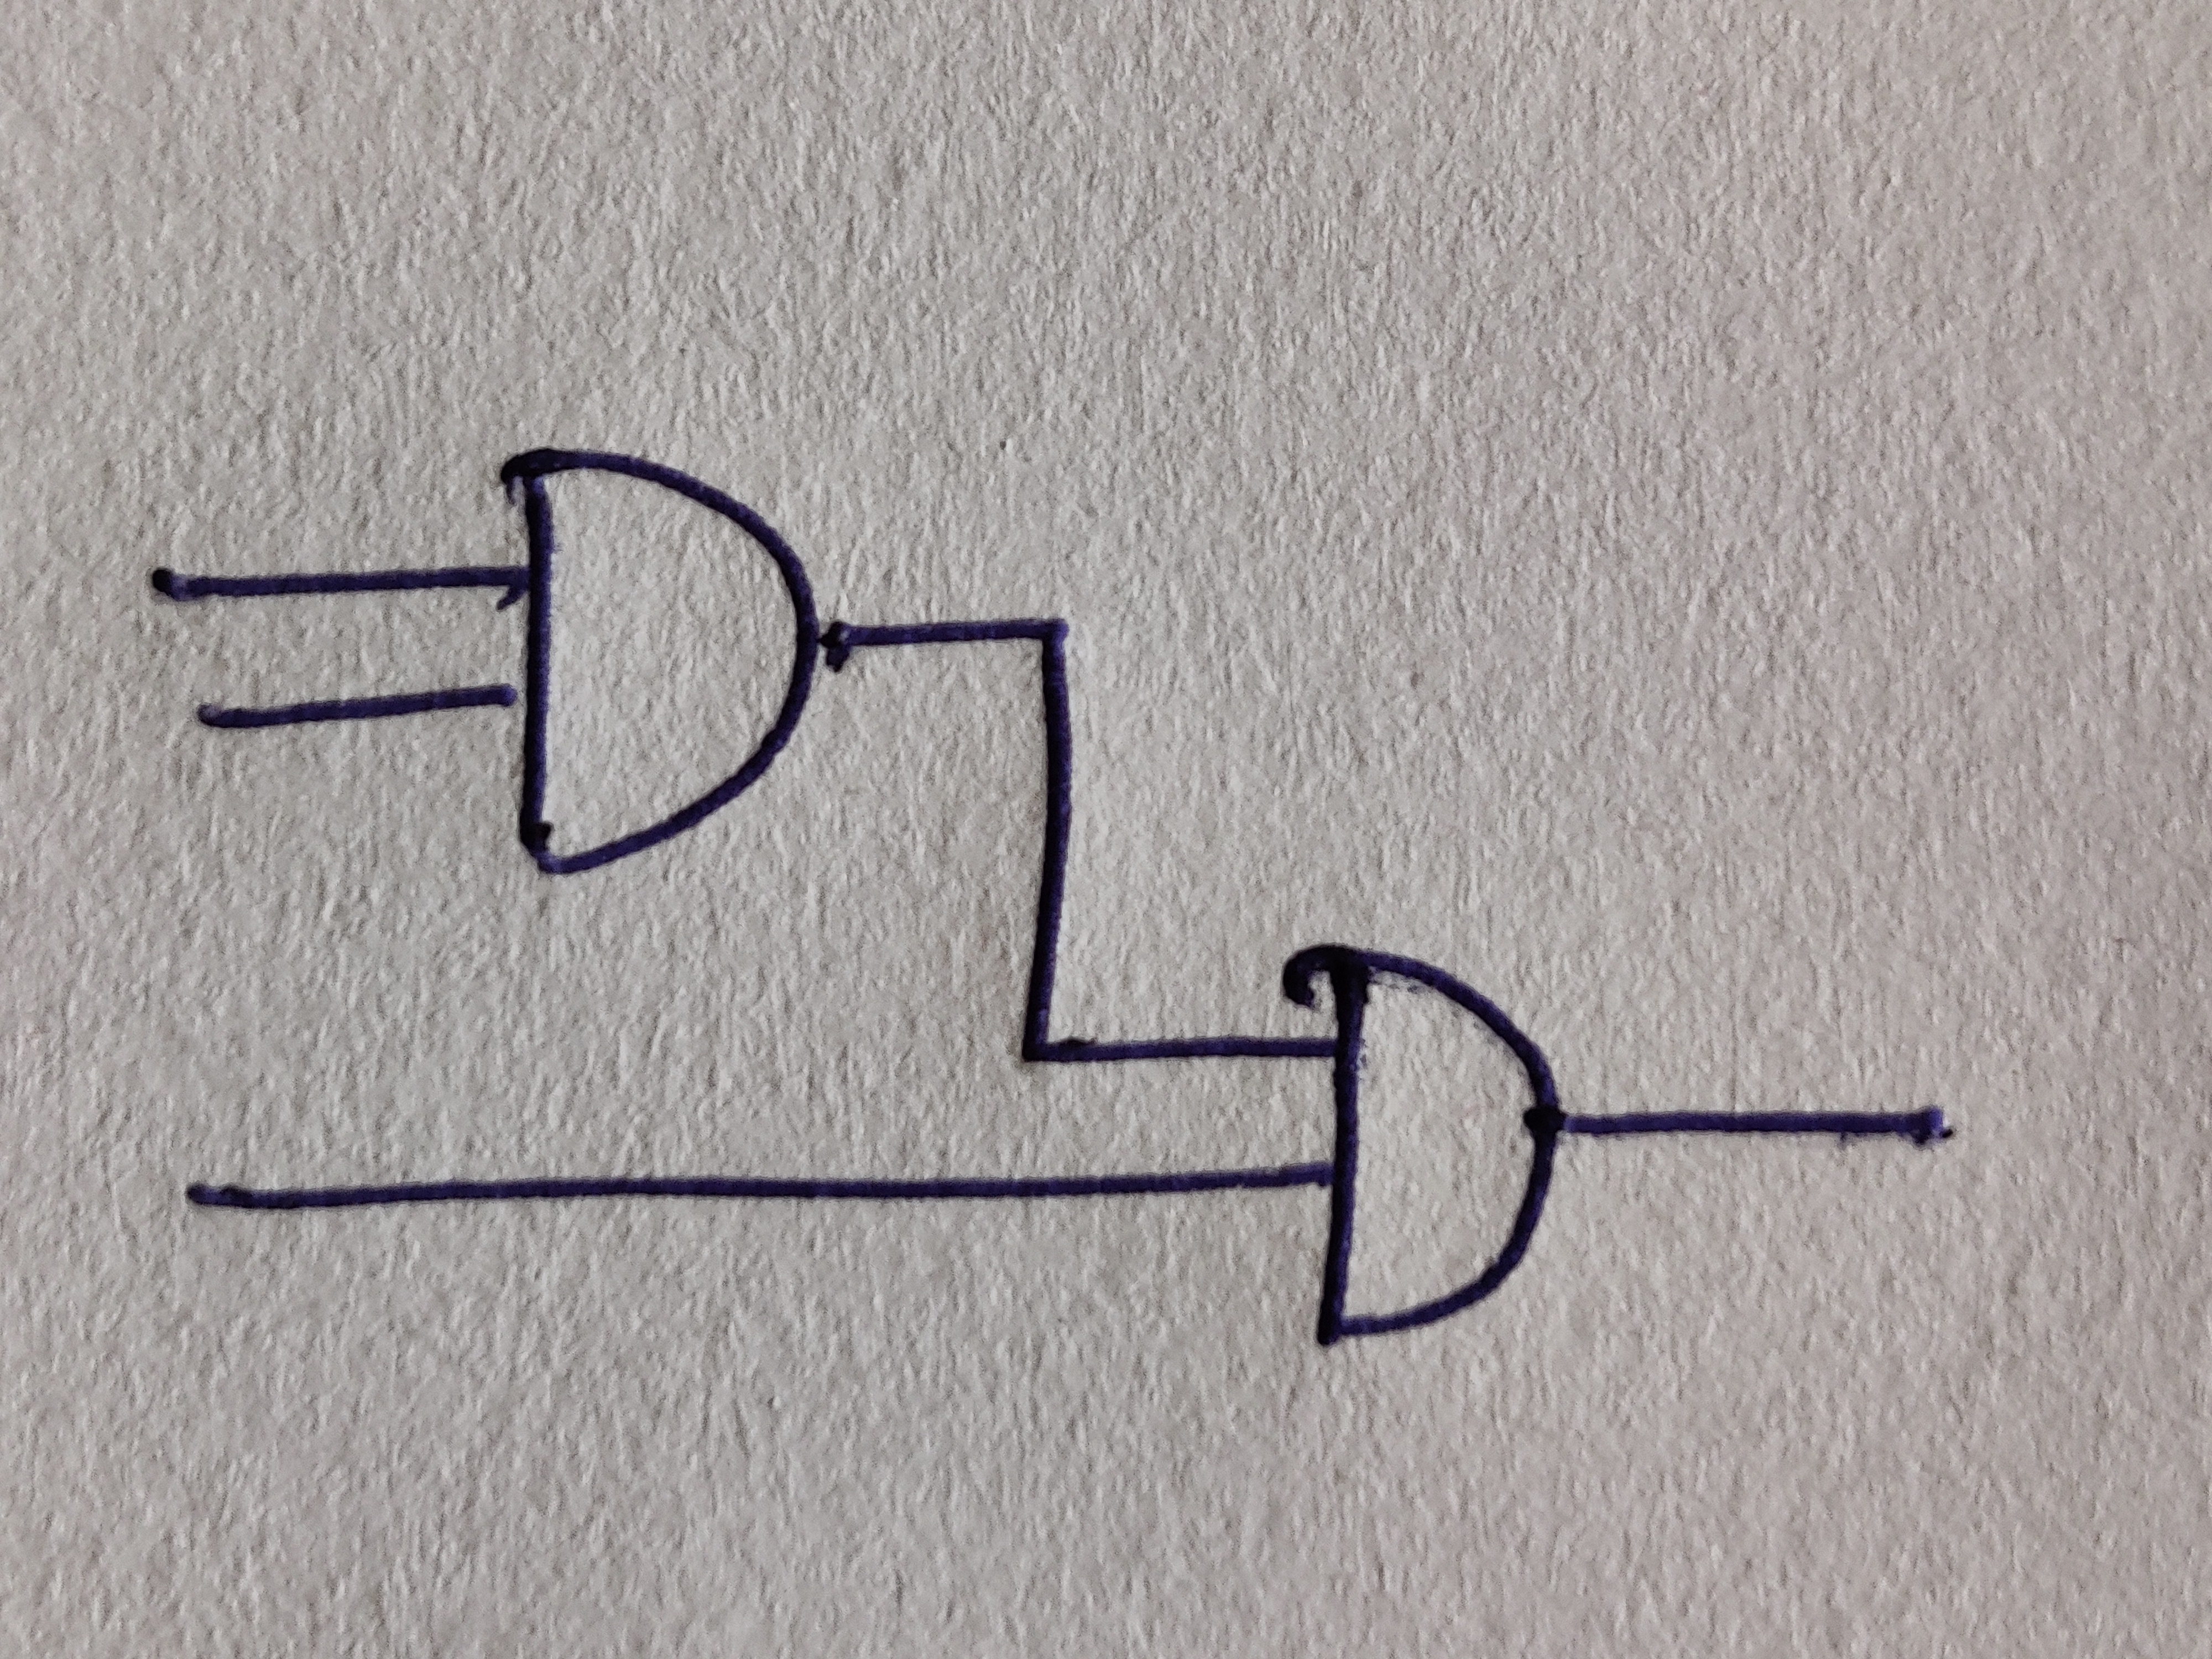and: (500, 450, 819, 871), (1282, 943, 1557, 1349)
